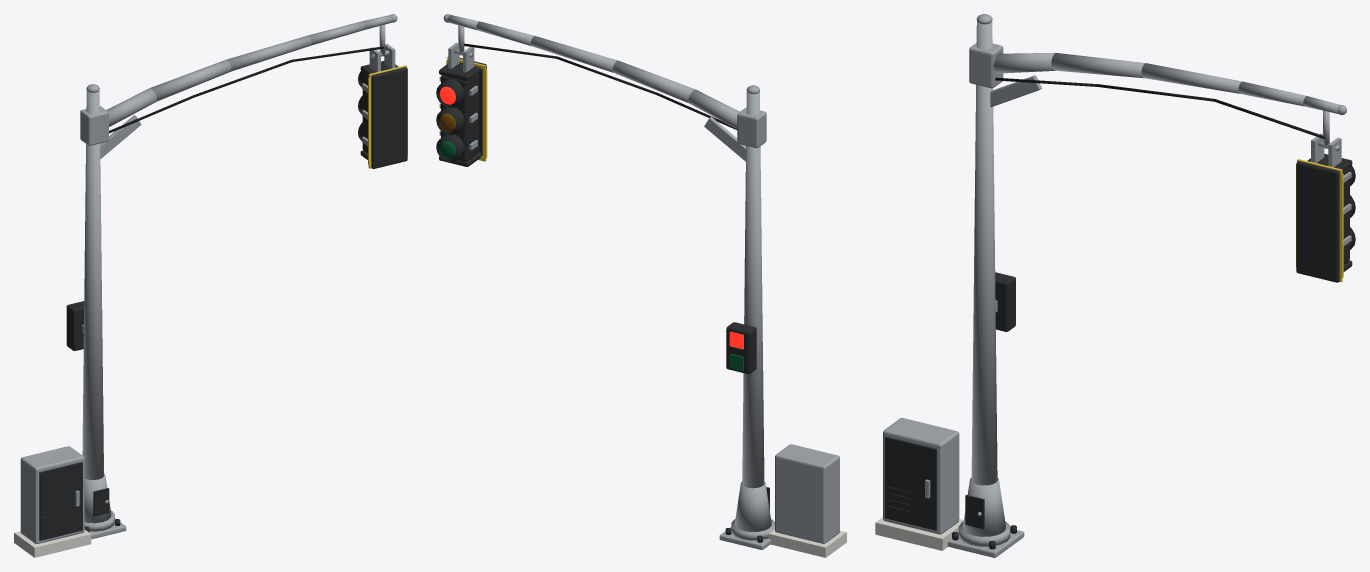
The model's file is traffic_signal_short.glb.
3 renders of one model, left to right at view 1: azimuth 30°, elevation 25°; view 2: azimuth 150°, elevation 25°; view 3: azimuth 330°, elevation 25°, orthographic. The views are drawn at different scales.
Visible parts, largest first — view 1: Merged_SignalMetal, Merged_SignalHousing, signal_cabinet_plinth, Merged_SignalCable, Merged_SignalReflector; view 2: Merged_SignalMetal, Merged_SignalHousing, signal_cabinet_plinth, Merged_SignalCable, Merged_SignalReflector; view 3: Merged_SignalMetal, Merged_SignalHousing, signal_cabinet_plinth, Merged_SignalCable, Merged_SignalReflector.
Boxes of the visible parts, x1,y1,x2,y2 form: Merged_SignalMetal: (20, 14, 397, 543); Merged_SignalHousing: (39, 61, 407, 540); signal_cabinet_plinth: (14, 529, 91, 557); Merged_SignalCable: (109, 46, 384, 133); Merged_SignalReflector: (368, 65, 407, 168); Merged_SignalMetal: (439, 14, 839, 549); Merged_SignalHousing: (436, 58, 769, 542); signal_cabinet_plinth: (768, 529, 846, 557); Merged_SignalCable: (464, 43, 737, 129); Merged_SignalReflector: (446, 56, 487, 161); Merged_SignalMetal: (883, 14, 1351, 557); Merged_SignalHousing: (885, 153, 1355, 549); signal_cabinet_plinth: (875, 517, 963, 550); Merged_SignalCable: (995, 77, 1324, 139); Merged_SignalReflector: (1296, 159, 1343, 282).
Size of the model in its own units: 5.55 by 6.13 by 0.84.
